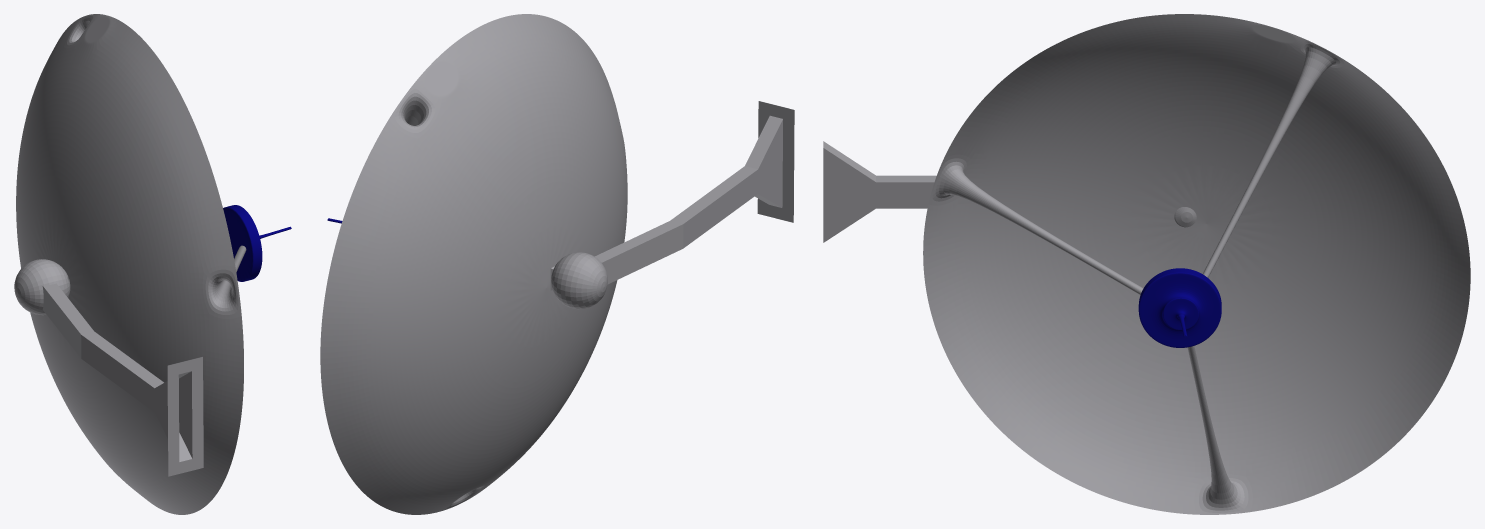
The model's file is antena.obj.
3 views of the same model, side by side, from view 1: azimuth 30°, elevation 25°; view 2: azimuth 150°, elevation 25°; view 3: azimuth 270°, elevation 25° (orthographic). The views are drawn at different scales.
Parts seen in each view (by area): view 1: antenaSat_Material, antenaSat_azul; view 2: antenaSat_Material; view 3: antenaSat_Material, antenaSat_azul.
Boxes of the visible parts, x1,y1,x2,y2 form: antenaSat_Material: [14, 14, 246, 514]; antenaSat_azul: [223, 205, 291, 281]; antenaSat_Material: [320, 14, 794, 514]; antenaSat_Material: [823, 14, 1470, 514]; antenaSat_azul: [1138, 268, 1221, 347].
Bounding box in the file's own units: 1.78 × 2.7 × 3.17.
